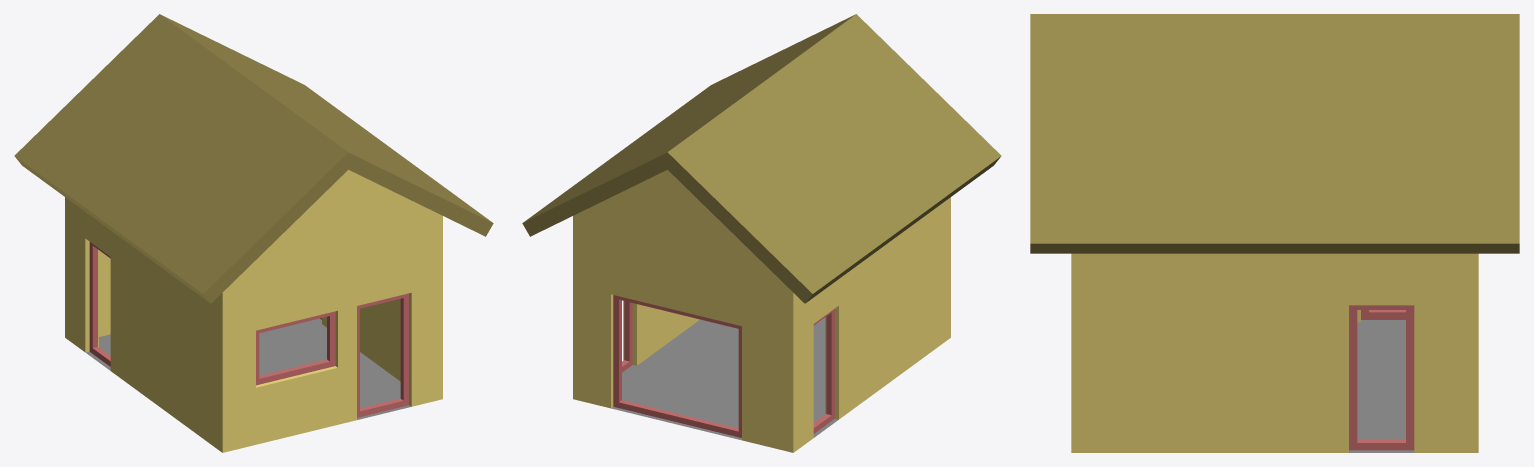
The model's file is result.glb.
3 views of the same model, side by side, from view 1: azimuth 30°, elevation 25°; view 2: azimuth 150°, elevation 25°; view 3: azimuth 270°, elevation 25° (orthographic). The views are drawn at different scales.
Visible parts, largest first — view 1: af0fe690-371a-4269-9318-5a9dd7c9099b__undefined, 4322dd4b-926c-4ce8-bd65-e98a4d9bf1d8__undefined (×2), 8a8134c5-7ade-4eb2-8873-bed867659629__Plane_6, 112e9c89-4fe6-40fc-838a-cab999c1e845__Box, e6137a26-1677-405e-aef3-788df825fe83__Box_3, 592f37d7-95d5-4685-885c-bda0a0efebe7__Box_12; view 2: 4322dd4b-926c-4ce8-bd65-e98a4d9bf1d8__undefined (×2), af0fe690-371a-4269-9318-5a9dd7c9099b__undefined, 8a8134c5-7ade-4eb2-8873-bed867659629__Plane_6, db2883de-6e21-4441-9789-c965df90a2ba__Box_9, 592f37d7-95d5-4685-885c-bda0a0efebe7__Box_12, 15912308-7d35-4d5a-8074-28a6d7d5688a__Box_15; view 3: 4322dd4b-926c-4ce8-bd65-e98a4d9bf1d8__undefined, af0fe690-371a-4269-9318-5a9dd7c9099b__undefined, 8a8134c5-7ade-4eb2-8873-bed867659629__Plane_6, 15912308-7d35-4d5a-8074-28a6d7d5688a__Box_15.
Part boxes in pixels (bbox=[...]): af0fe690-371a-4269-9318-5a9dd7c9099b__undefined: bbox=[65, 170, 442, 452]; 4322dd4b-926c-4ce8-bd65-e98a4d9bf1d8__undefined (×2): bbox=[14, 14, 493, 303]; 8a8134c5-7ade-4eb2-8873-bed867659629__Plane_6: bbox=[86, 318, 410, 419]; 112e9c89-4fe6-40fc-838a-cab999c1e845__Box: bbox=[357, 293, 408, 417]; e6137a26-1677-405e-aef3-788df825fe83__Box_3: bbox=[256, 311, 335, 385]; 592f37d7-95d5-4685-885c-bda0a0efebe7__Box_12: bbox=[89, 242, 110, 366]; 4322dd4b-926c-4ce8-bd65-e98a4d9bf1d8__undefined (×2): bbox=[522, 14, 1001, 303]; af0fe690-371a-4269-9318-5a9dd7c9099b__undefined: bbox=[573, 170, 950, 452]; 8a8134c5-7ade-4eb2-8873-bed867659629__Plane_6: bbox=[611, 317, 838, 440]; db2883de-6e21-4441-9789-c965df90a2ba__Box_9: bbox=[613, 295, 741, 437]; 592f37d7-95d5-4685-885c-bda0a0efebe7__Box_12: bbox=[813, 308, 834, 433]; 15912308-7d35-4d5a-8074-28a6d7d5688a__Box_15: bbox=[622, 301, 632, 372]; 4322dd4b-926c-4ce8-bd65-e98a4d9bf1d8__undefined: bbox=[1030, 14, 1519, 253]; af0fe690-371a-4269-9318-5a9dd7c9099b__undefined: bbox=[1071, 253, 1478, 452]; 8a8134c5-7ade-4eb2-8873-bed867659629__Plane_6: bbox=[1349, 320, 1414, 452]; 15912308-7d35-4d5a-8074-28a6d7d5688a__Box_15: bbox=[1349, 305, 1414, 450].
Size of the model in its own units: 533 by 500 by 600.
